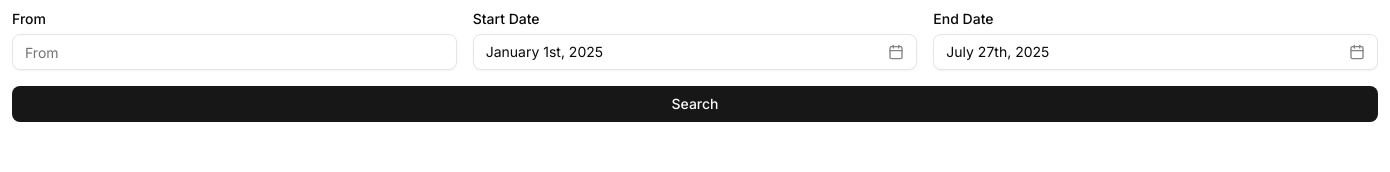
Test: SearchForm › should show validation on submitting invalid email
Step 1. Type "invalid-email" into the field with placeholder "From" → (234, 52), box [12,34,457,70]
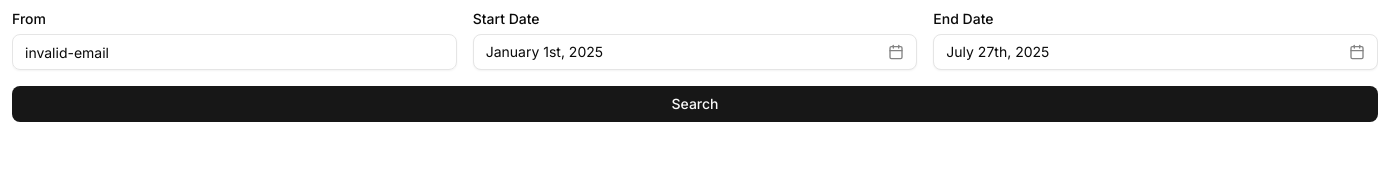
Step 2. Click the button "Search" → (695, 104), box [12,86,1378,122]
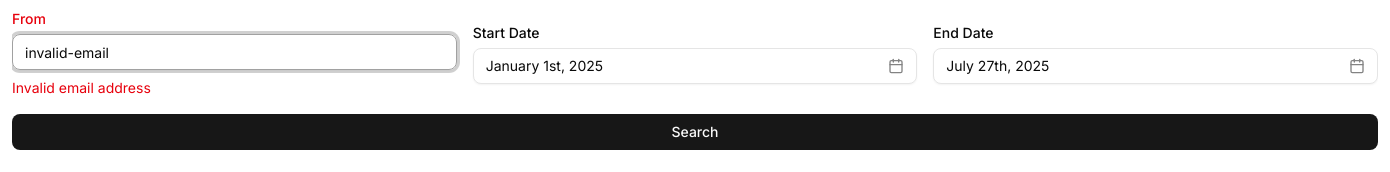
expect the text "Invalid email address" is shown: met, box [12,79,151,96]
